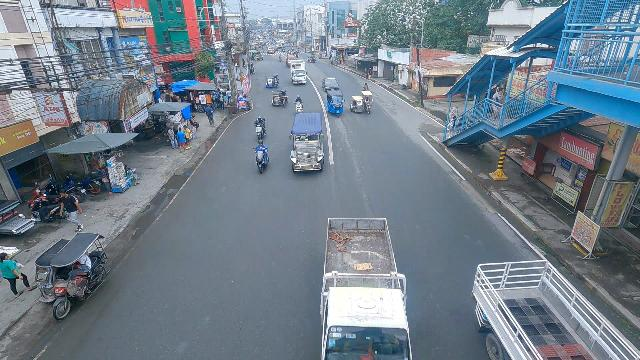car: (321, 77, 340, 91), (286, 55, 296, 67)
jeepney: (290, 112, 326, 175), (253, 50, 263, 61), (267, 46, 275, 54)
motorcycle: (253, 142, 270, 175), (254, 116, 267, 141), (294, 94, 303, 114), (363, 81, 370, 91), (250, 63, 254, 74), (295, 50, 299, 58), (279, 54, 282, 61), (286, 50, 289, 56)
truck: (471, 258, 640, 360), (314, 215, 422, 360), (289, 60, 308, 86)
